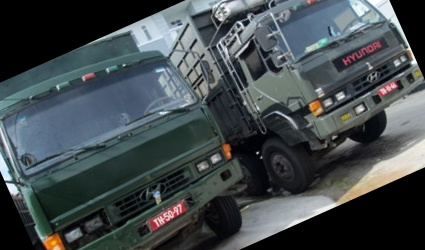plate: (147, 199, 188, 234), (376, 78, 397, 96)
